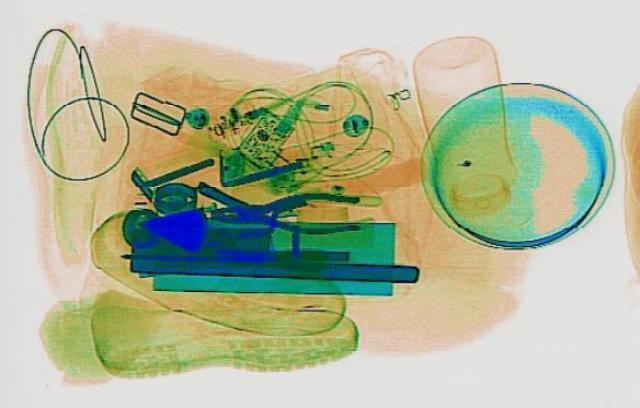Pliers: (210, 190, 358, 232)
